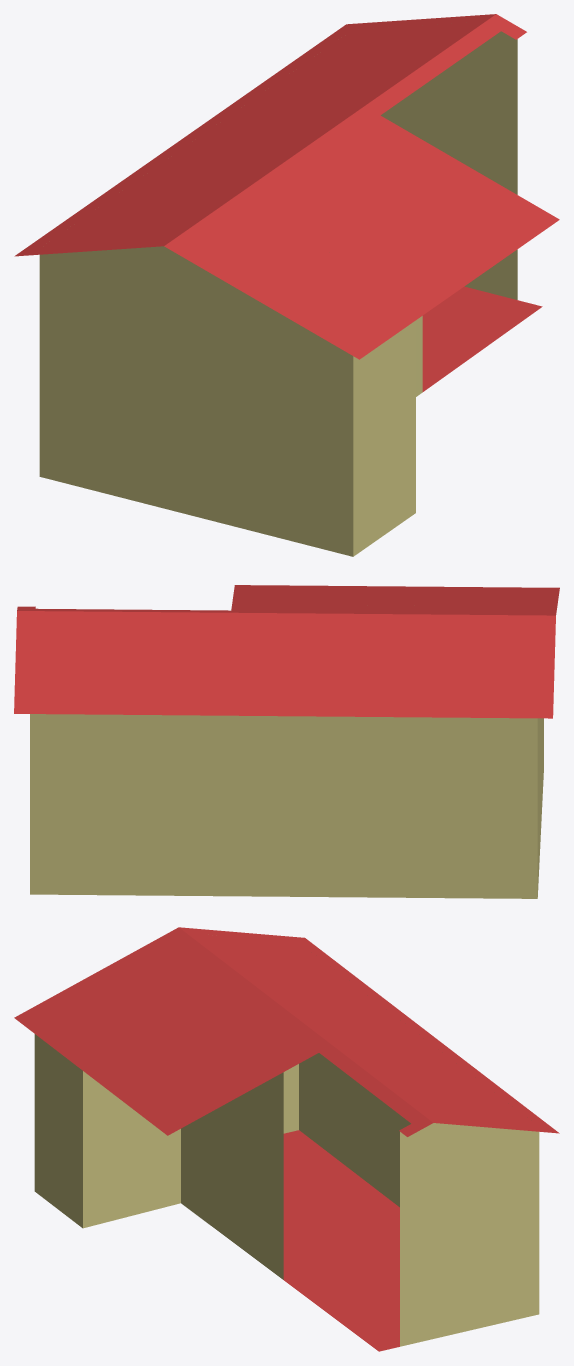
3 views of the same model, one above another, from view 1: azimuth 30°, elevation 25°; view 2: azimuth 150°, elevation 25°; view 3: azimuth 270°, elevation 25° (orthographic). The views are drawn at different scales.
Size of the model in its own units: 17.84 by 17.8 by 8.04.
